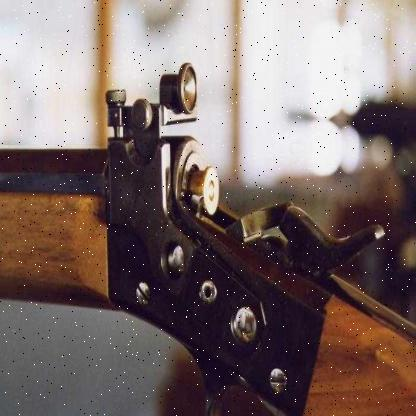rifle: (0, 49, 406, 410)
